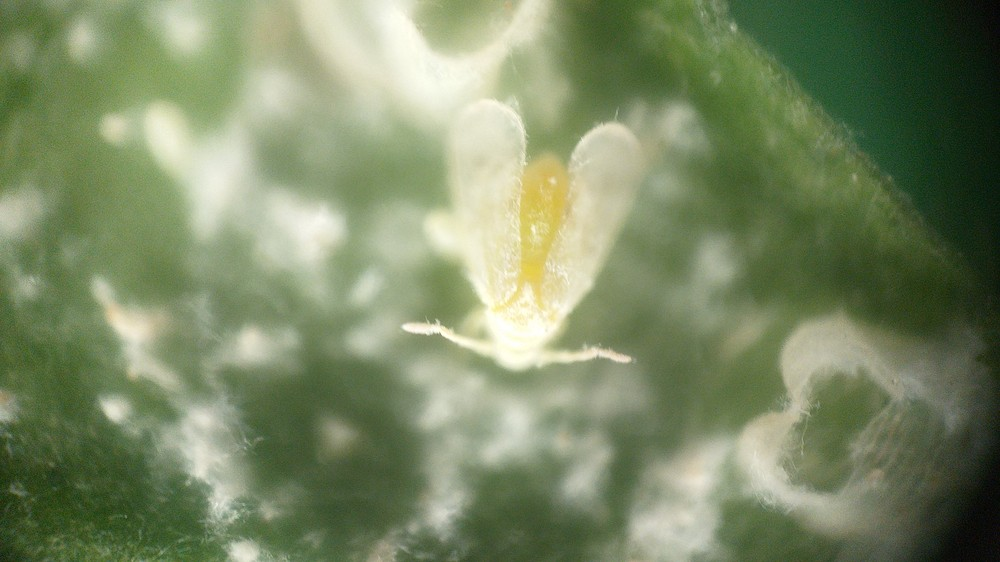Mosca Blanca: (401, 92, 655, 401)
